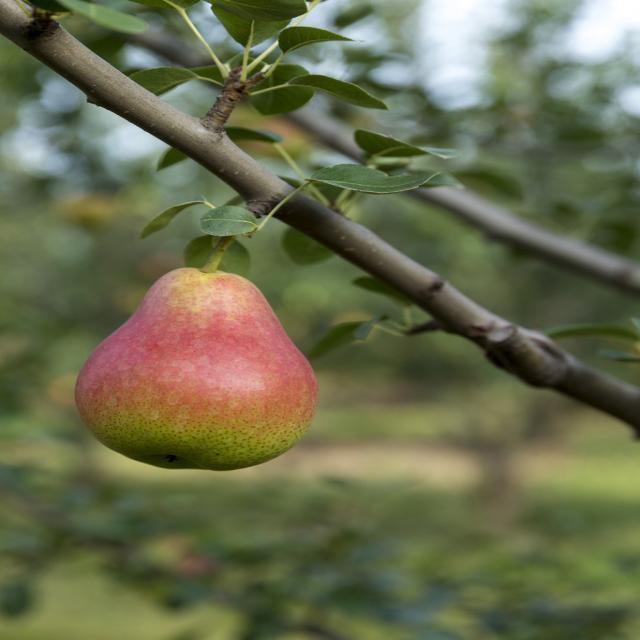Pear: (75, 268, 317, 470)
